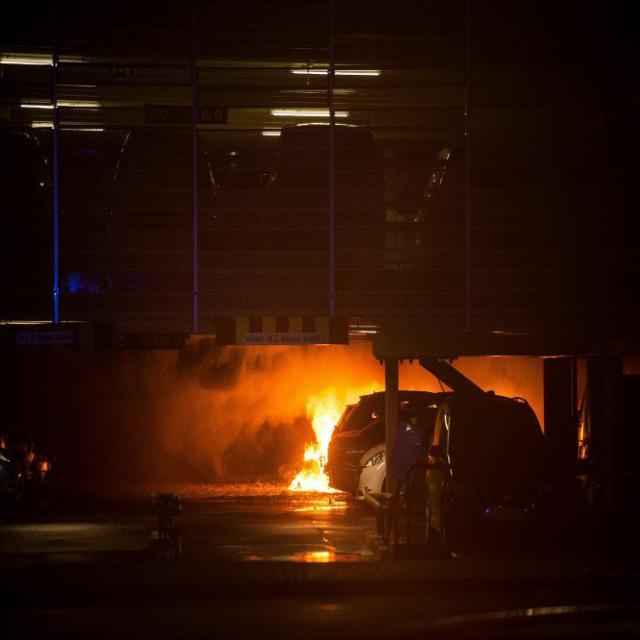Fire: (40, 458, 49, 476)
